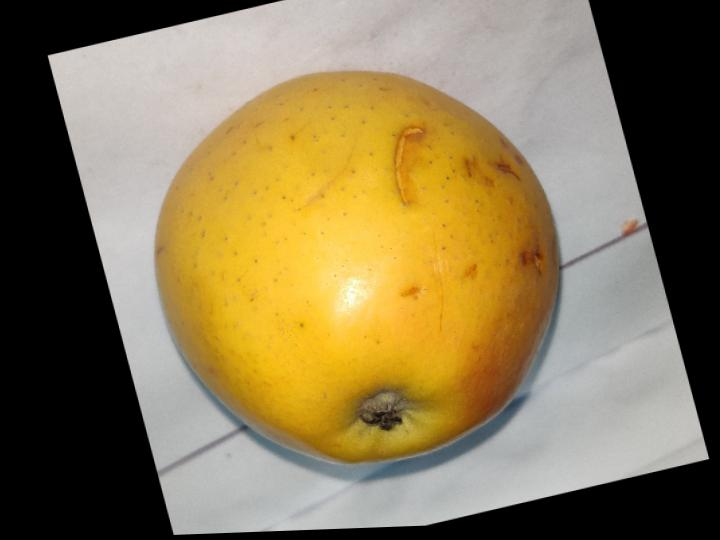apple: (154, 70, 557, 463)
surface_damage: (394, 125, 424, 204), (533, 252, 542, 273)
